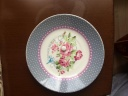Yuvarlak Buskopan: (61, 46, 67, 51)
